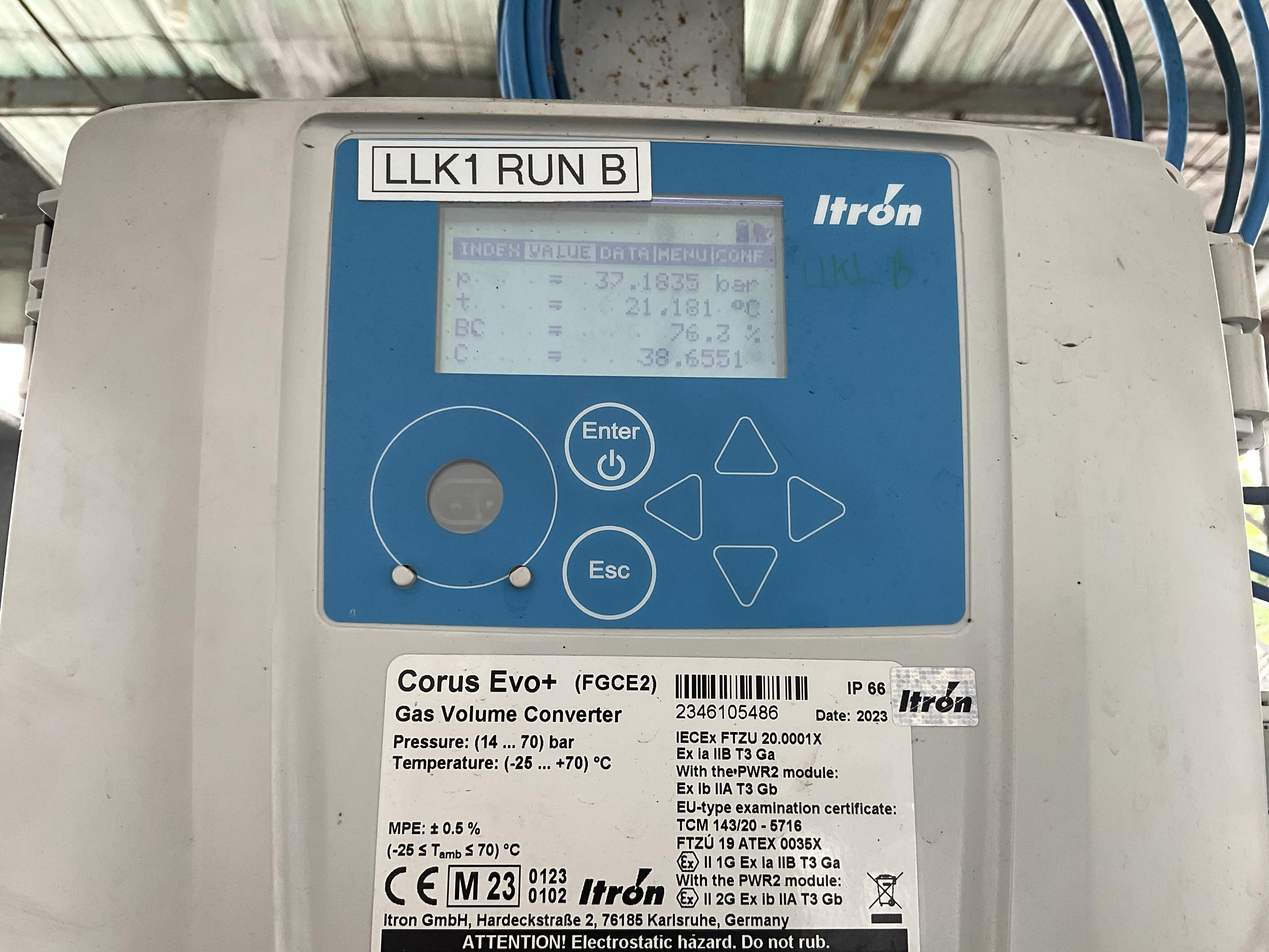digital_screen: (435, 191, 790, 378)
